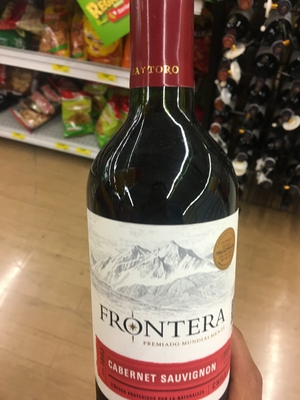frontera cabernet sauvignon: (86, 19, 237, 400)
